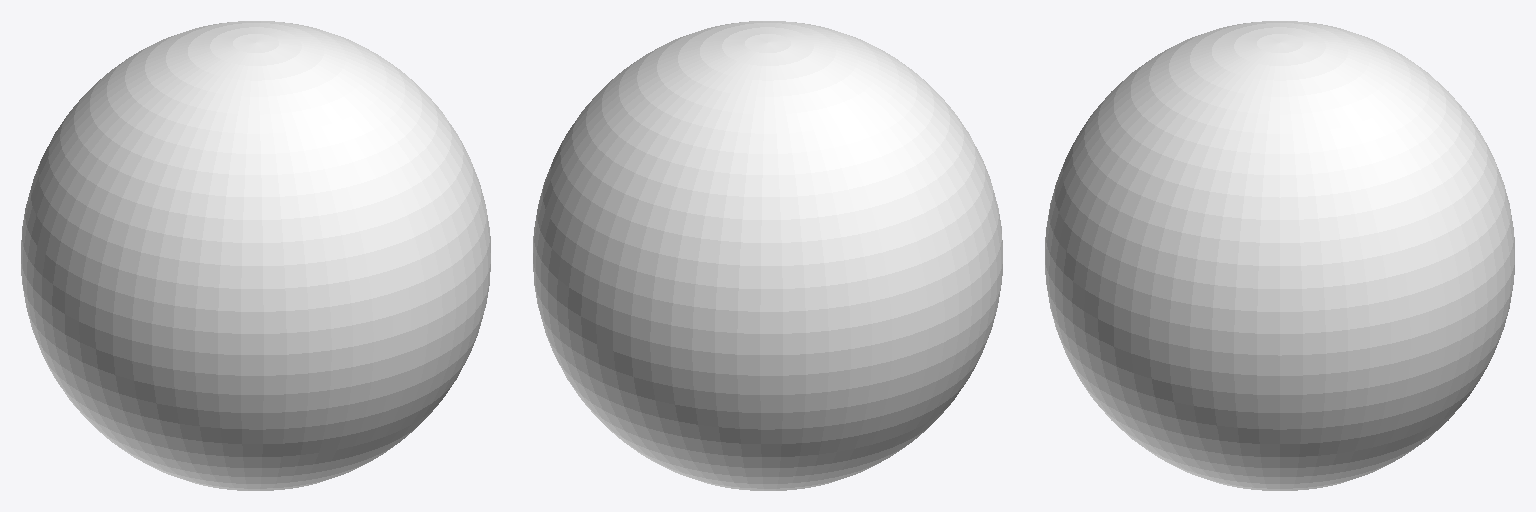
Rendered from mars.obj.
3 views of the same model, side by side, from view 1: azimuth 30°, elevation 25°; view 2: azimuth 150°, elevation 25°; view 3: azimuth 270°, elevation 25° (orthographic).
Parts seen in each view (by area): view 1: Sphere001; view 2: Sphere001; view 3: Sphere001.
Boxes of the visible parts, box(x1,y1,x2,y2) form: Sphere001: box(21, 21, 490, 490); Sphere001: box(533, 21, 1002, 490); Sphere001: box(1045, 21, 1514, 490).
Bounding box in the file's own units: 5 × 5 × 5.